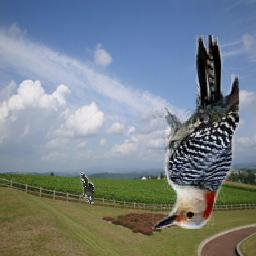Woodpecker: (153, 35, 240, 229), (78, 172, 94, 204)
